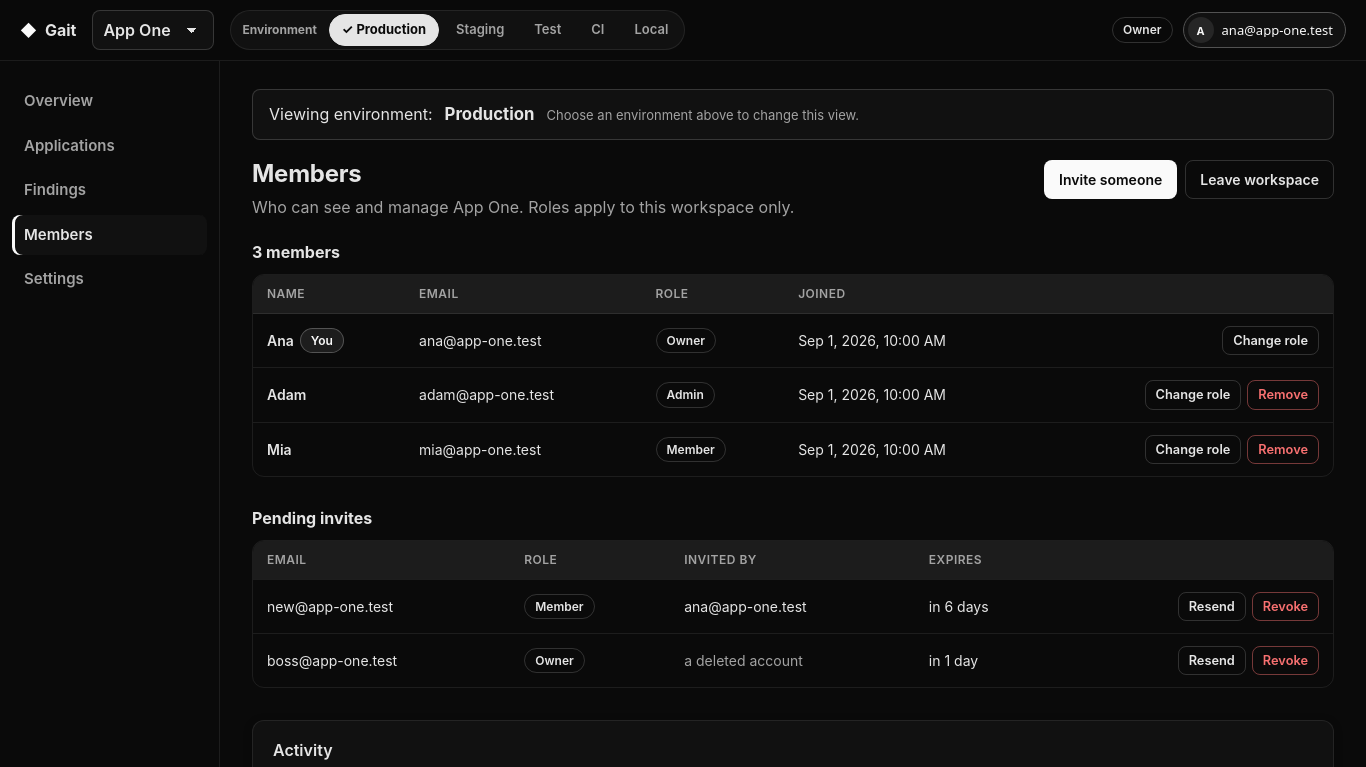
F4 invites › Resend revokes then recreates, and says the old link stops working
Click the button named "Resend invite to new@app-one.test".
click(1212, 606)  # box [1178,592,1246,621]
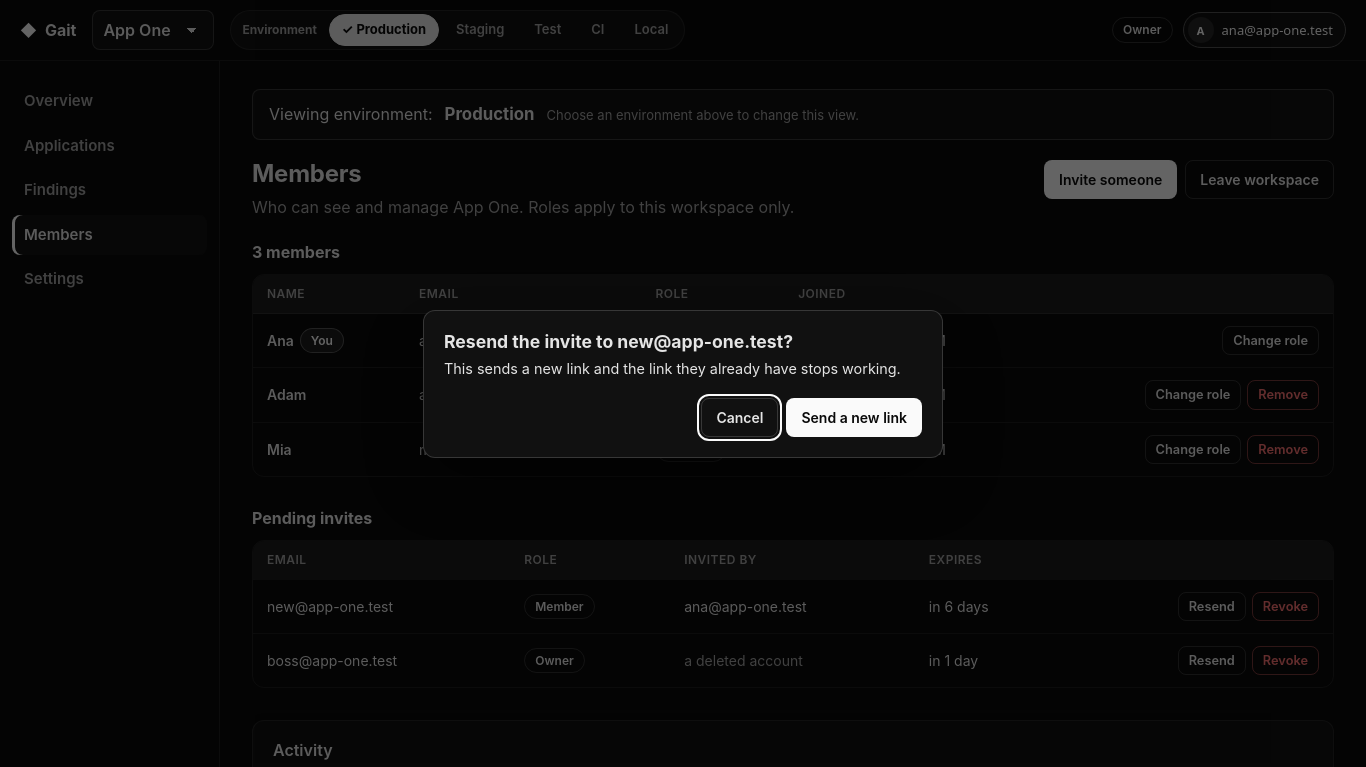
Check: the dialog shows "the link they already have stops working", box [444,360,901,377]
Click the button "Send a new link".
click(854, 417)  # box [786,398,922,437]
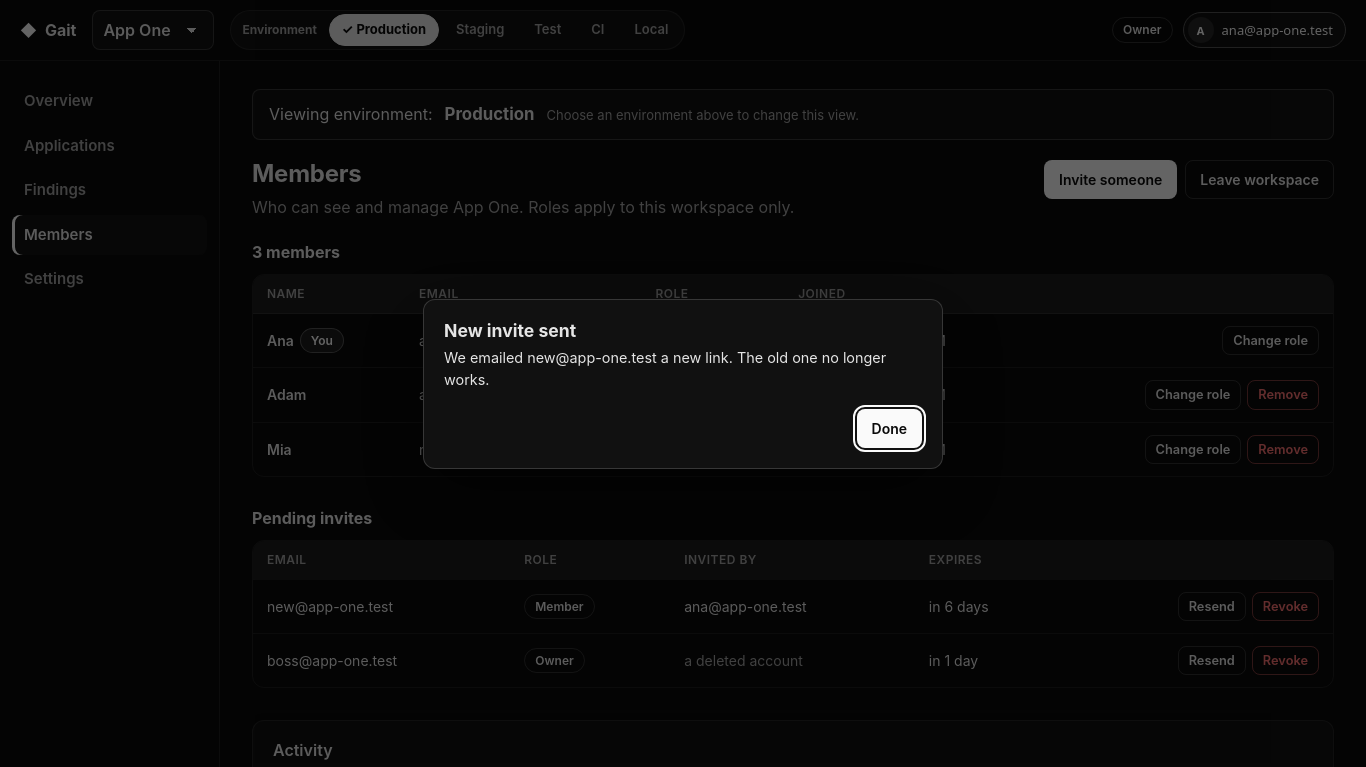
Check: the dialog "New invite sent" shows "The old one no longer works.", box [444,349,886,388]
